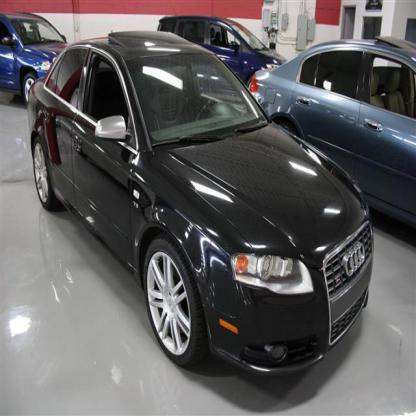Vehicle: (32, 31, 367, 380)
